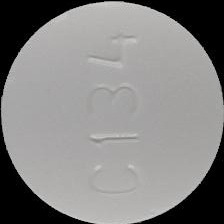67405-500: (0, 0, 224, 224)
